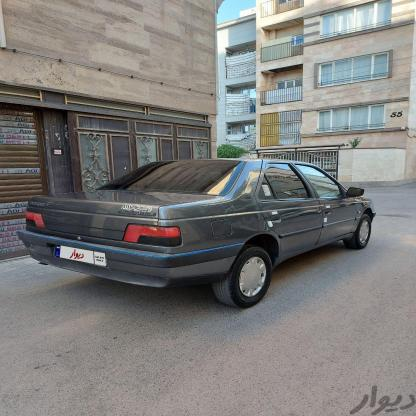Car: (14, 139, 384, 308)
